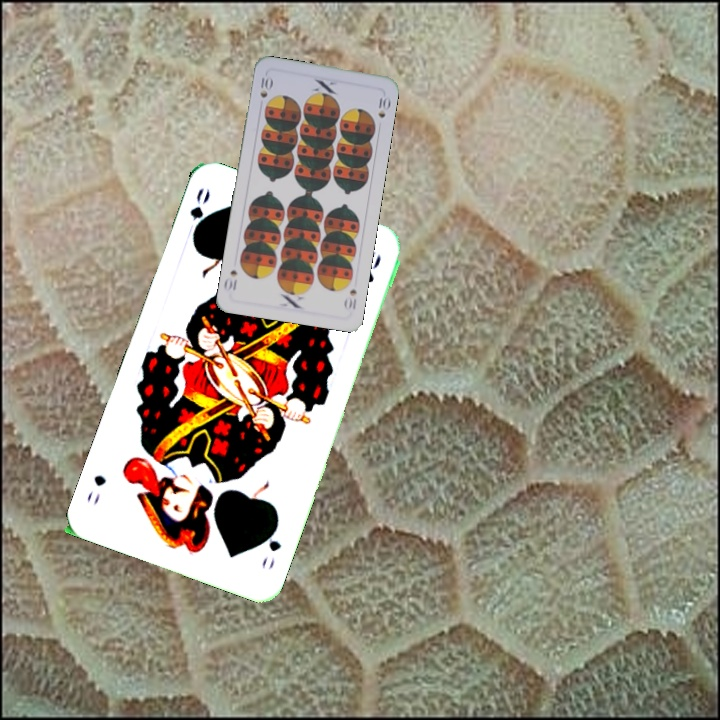GO: (182, 184, 213, 243), (257, 519, 284, 572)
S10: (340, 285, 359, 312), (256, 73, 274, 100)
